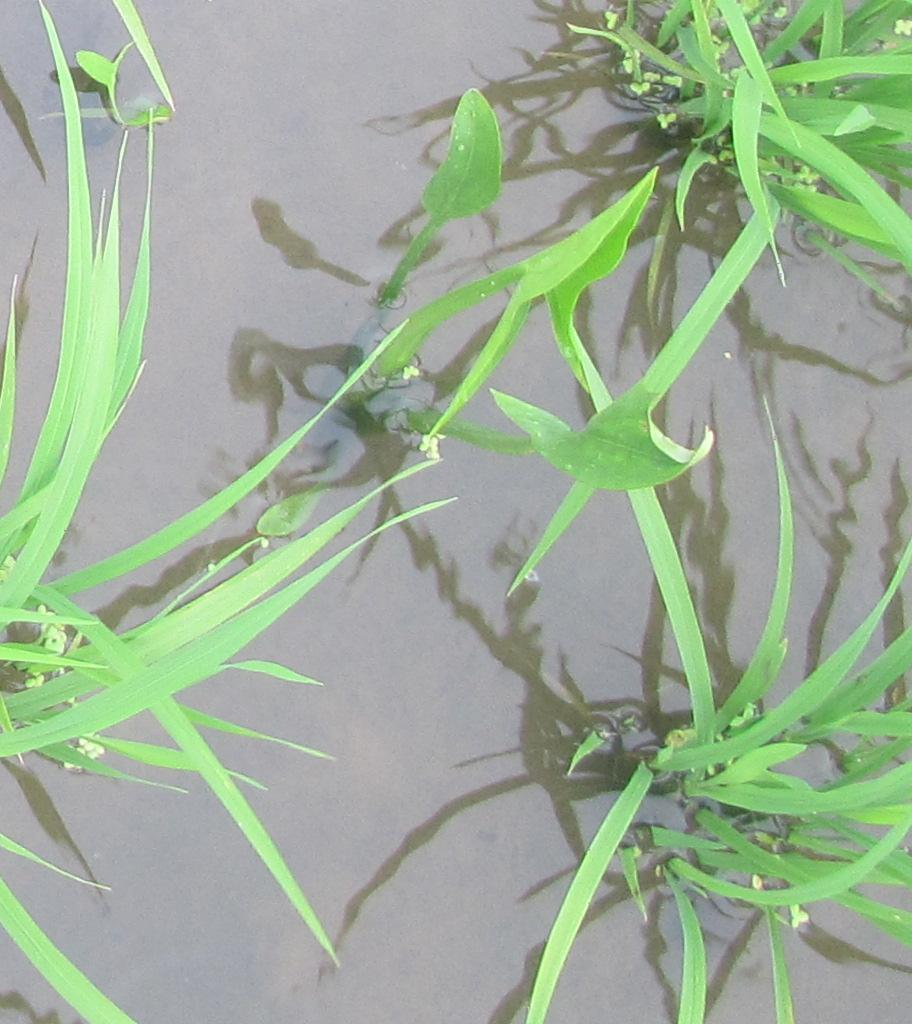Weed: (430, 83, 717, 492)
